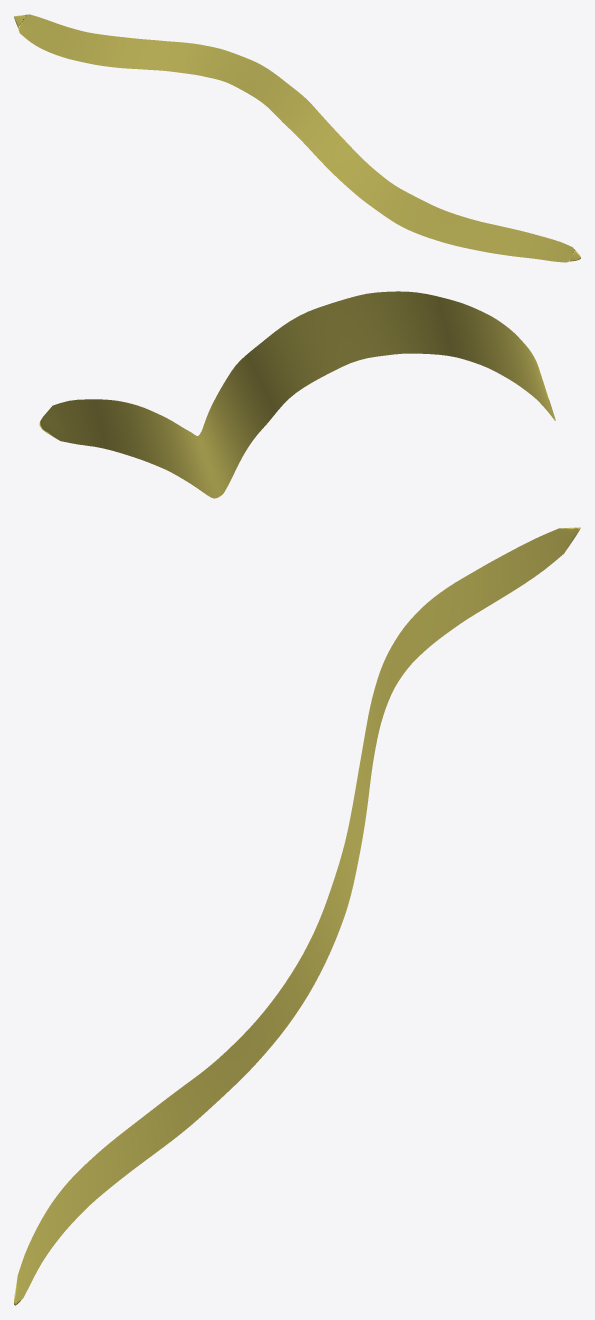
File: Fusili.009.gltf
The picture shows the model from 3 angles, top to bottom: view 1: azimuth 30°, elevation 25°; view 2: azimuth 150°, elevation 25°; view 3: azimuth 270°, elevation 25°; orthographic projection. The views are drawn at different scales.
Parts seen in each view (by area): view 1: Fusili.009; view 2: Fusili.009; view 3: Fusili.009.
Part boxes in pixels (box(x1,y1,x2,y2)): Fusili.009: box(14, 14, 580, 262); Fusili.009: box(39, 291, 555, 498); Fusili.009: box(14, 527, 580, 1305).
Bounding box in the file's own units: 2.3 × 1.26 × 1.51.
